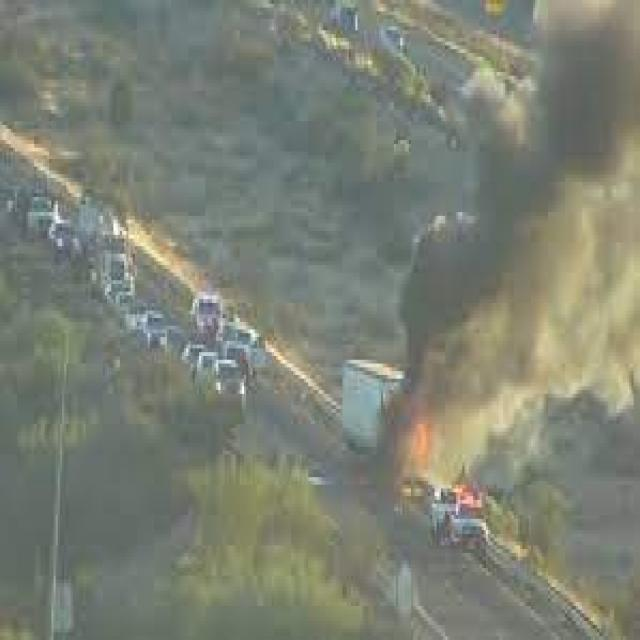smoke: (376, 4, 640, 481)
